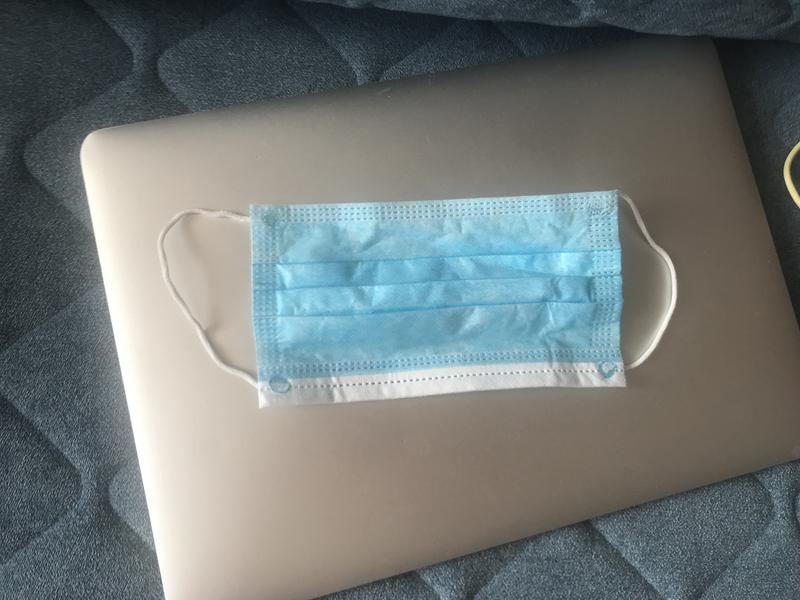medical_mask: (156, 191, 675, 408)
